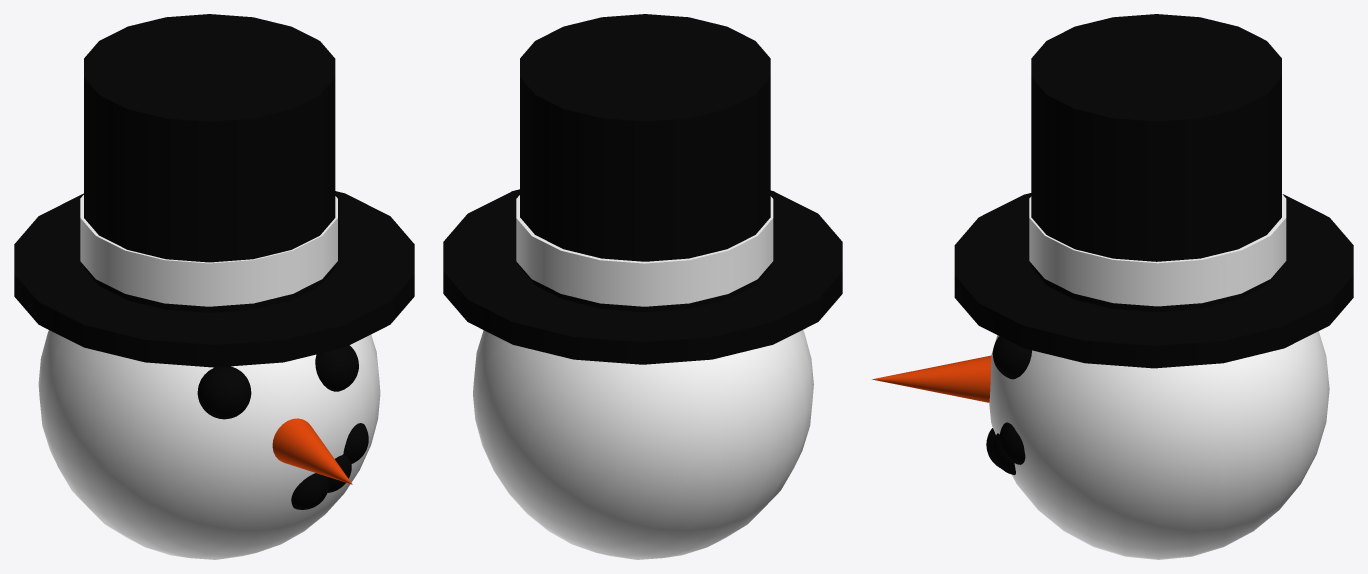
The model's file is New Snowman Head.FBX.
The picture shows the model from 3 angles, left to right: view 1: azimuth 30°, elevation 25°; view 2: azimuth 150°, elevation 25°; view 3: azimuth 270°, elevation 25°; orthographic projection.
Parts seen in each view (by area): view 1: Sphere003; view 2: Sphere003; view 3: Sphere003.
Boxes of the visible parts, <box> form: Sphere003: <box>14,14,414,559</box>; Sphere003: <box>443,14,842,559</box>; Sphere003: <box>872,14,1353,559</box>.
Bounding box in the file's own units: 12.74 × 16.51 × 15.17.
